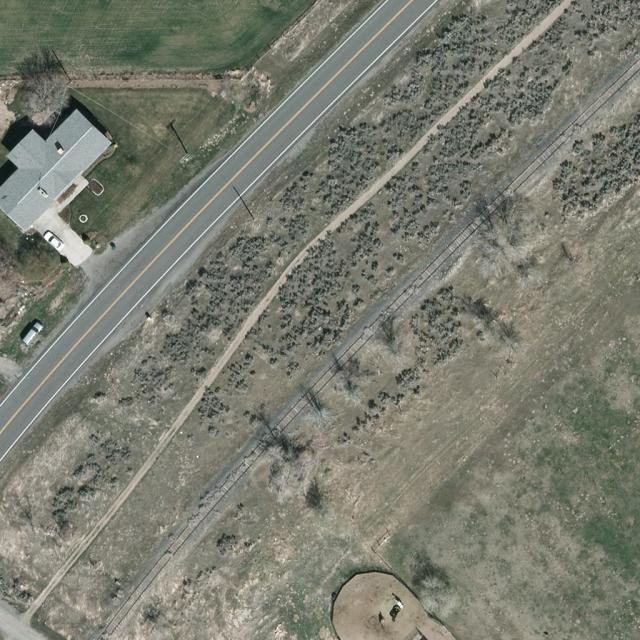vehicle: (22, 322, 44, 347), (43, 231, 65, 253)
